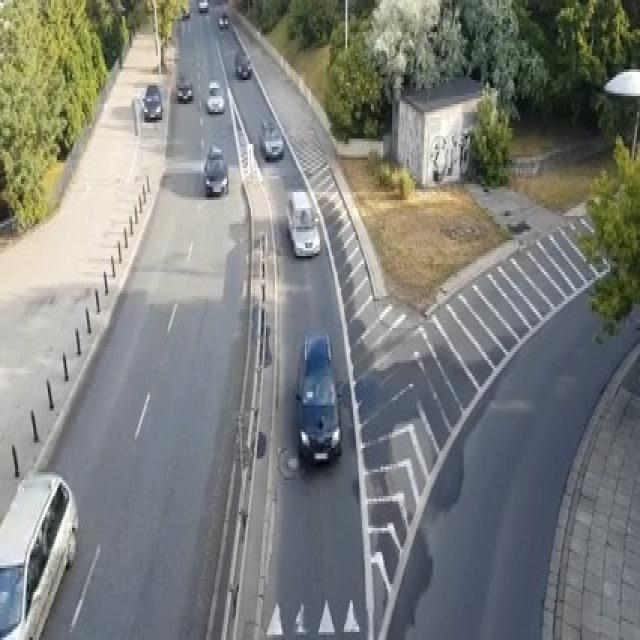car: (0, 472, 78, 637), (294, 331, 341, 464), (285, 189, 320, 256), (203, 144, 228, 195), (258, 117, 284, 160), (141, 83, 162, 120), (206, 80, 224, 112), (234, 48, 251, 77), (176, 75, 192, 101), (218, 11, 228, 29), (197, 0, 207, 11), (182, 8, 189, 19)
